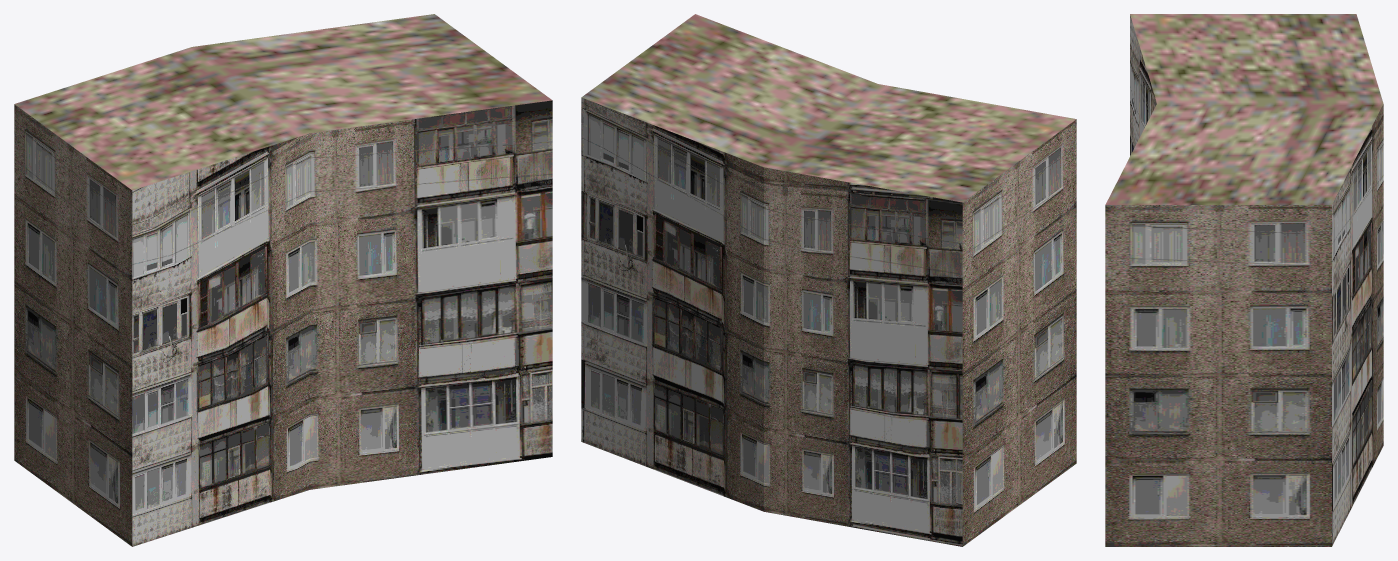
The model's file is house03.fbx.
3 views of the same model, side by side, from view 1: azimuth 30°, elevation 25°; view 2: azimuth 150°, elevation 25°; view 3: azimuth 270°, elevation 25° (orthographic). The views are drawn at different scales.
Visible parts, largest first — view 1: Cube; view 2: Cube; view 3: Cube.
Part boxes in pixels (x1,y1,x2,y2): Cube: (14,14,552,546); Cube: (581,14,1076,546); Cube: (1105,14,1383,546).
Size of the model in its own units: 478 by 400 by 295.
Materials: 1 (1 with a texture image).
